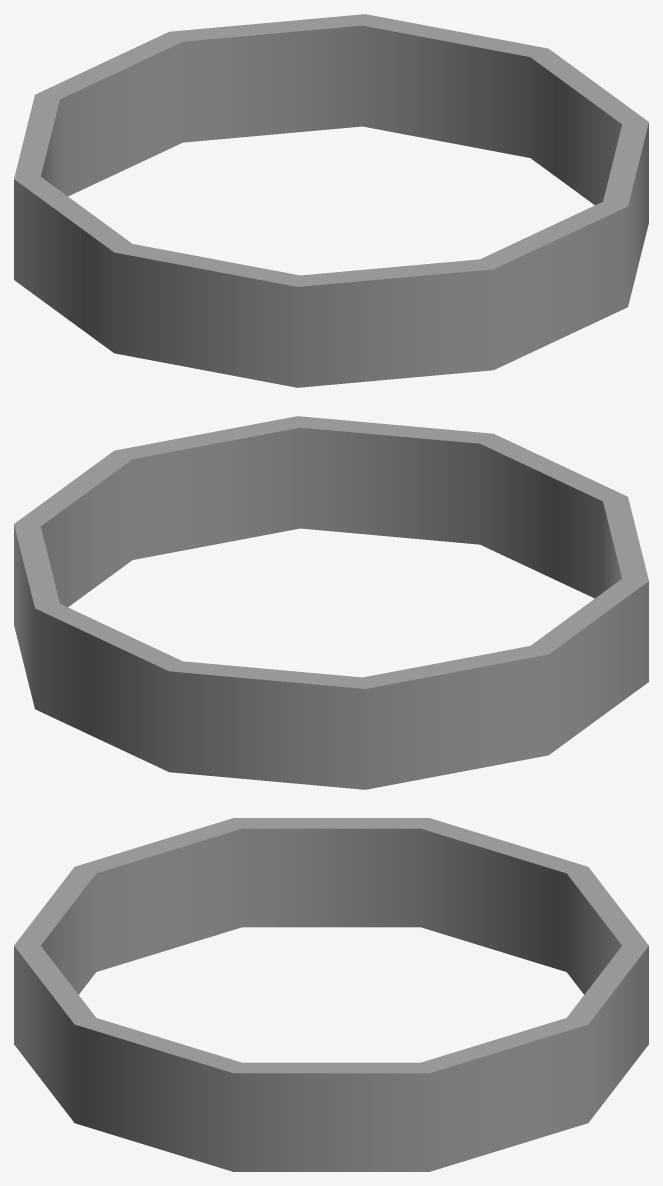
File: BiscuitCutter_Circle_01.fbx
3 renders of one model, top to bottom at view 1: azimuth 30°, elevation 25°; view 2: azimuth 150°, elevation 25°; view 3: azimuth 270°, elevation 25°, orthographic. The views are drawn at different scales.
Visible parts, largest first — view 1: BiscuitCutter_Circle_01; view 2: BiscuitCutter_Circle_01; view 3: BiscuitCutter_Circle_01.
Part boxes in pixels (x1=…): BiscuitCutter_Circle_01: x1=14, y1=14, x2=648, y2=387; BiscuitCutter_Circle_01: x1=14, y1=416, x2=648, y2=789; BiscuitCutter_Circle_01: x1=14, y1=818, x2=648, y2=1171.
Size of the model in its own units: 0.0708 by 0.0128 by 0.0744.
